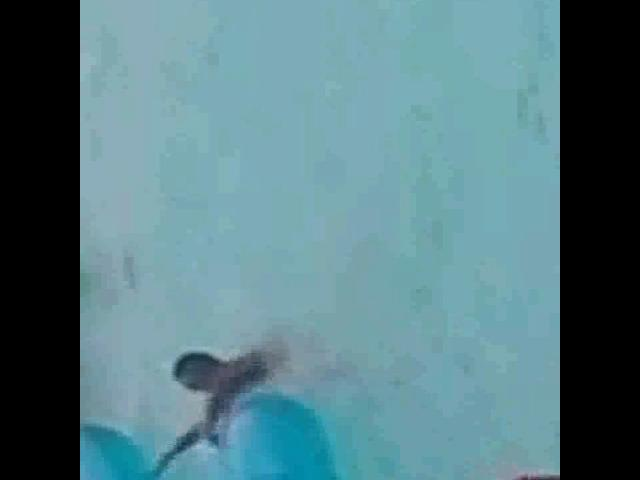drowning: (138, 285, 296, 473)
